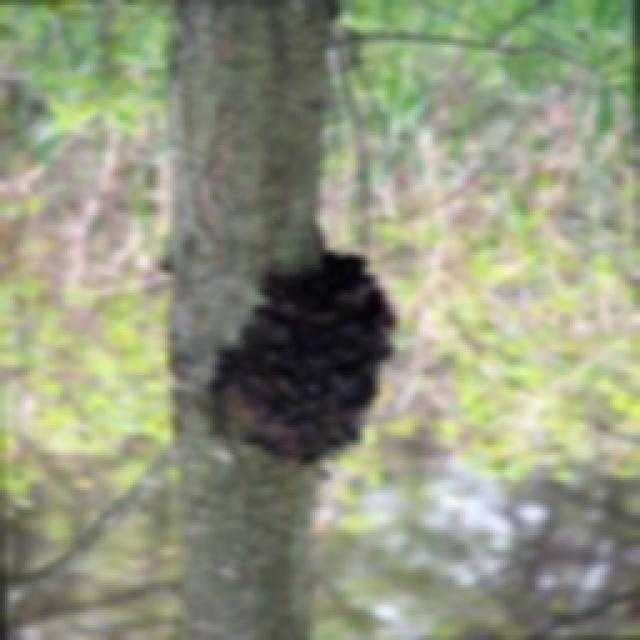Black_knot: (205, 243, 400, 465)
